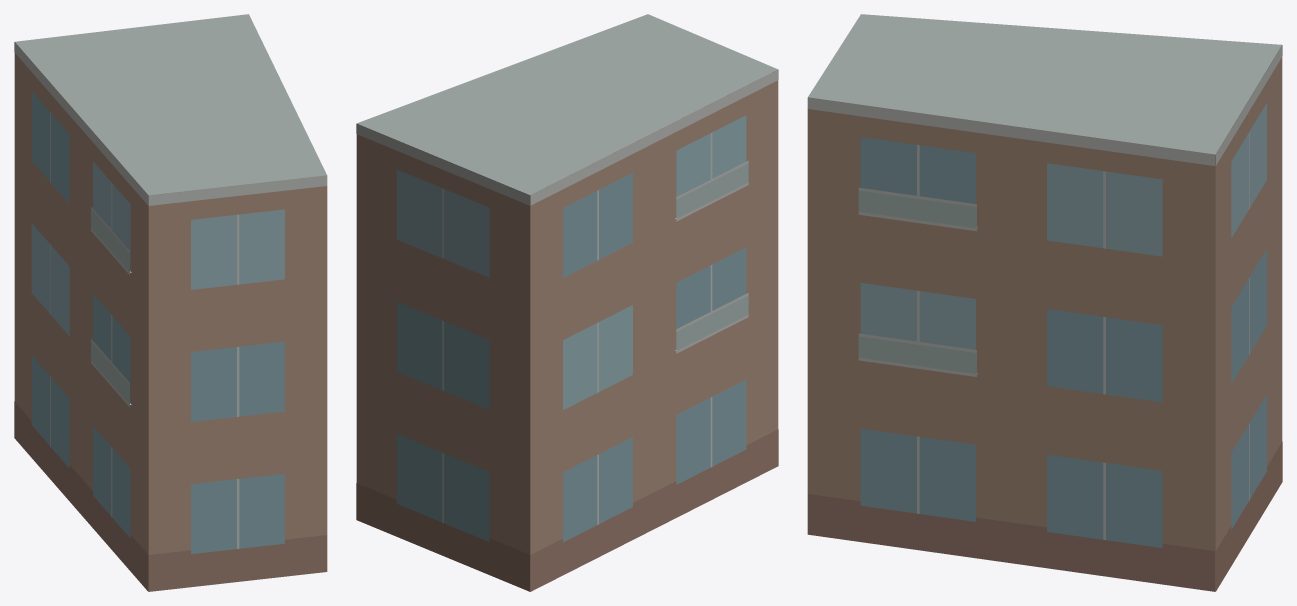
File: survey-upis-32682277.glb
3 views of the same model, side by side, from view 1: azimuth 30°, elevation 25°; view 2: azimuth 150°, elevation 25°; view 3: azimuth 270°, elevation 25° (orthographic). The views are drawn at different scales.
Visible parts, largest first — view 1: survey-upis-32682277.tmp; view 2: survey-upis-32682277.tmp; view 3: survey-upis-32682277.tmp.
Boxes of the visible parts, x1,y1,x2,y2 form: survey-upis-32682277.tmp: (14,14,327,591); survey-upis-32682277.tmp: (356,14,778,591); survey-upis-32682277.tmp: (807,14,1282,591).
Bounding box in the file's own units: 6.32 × 9.15 × 9.01.
